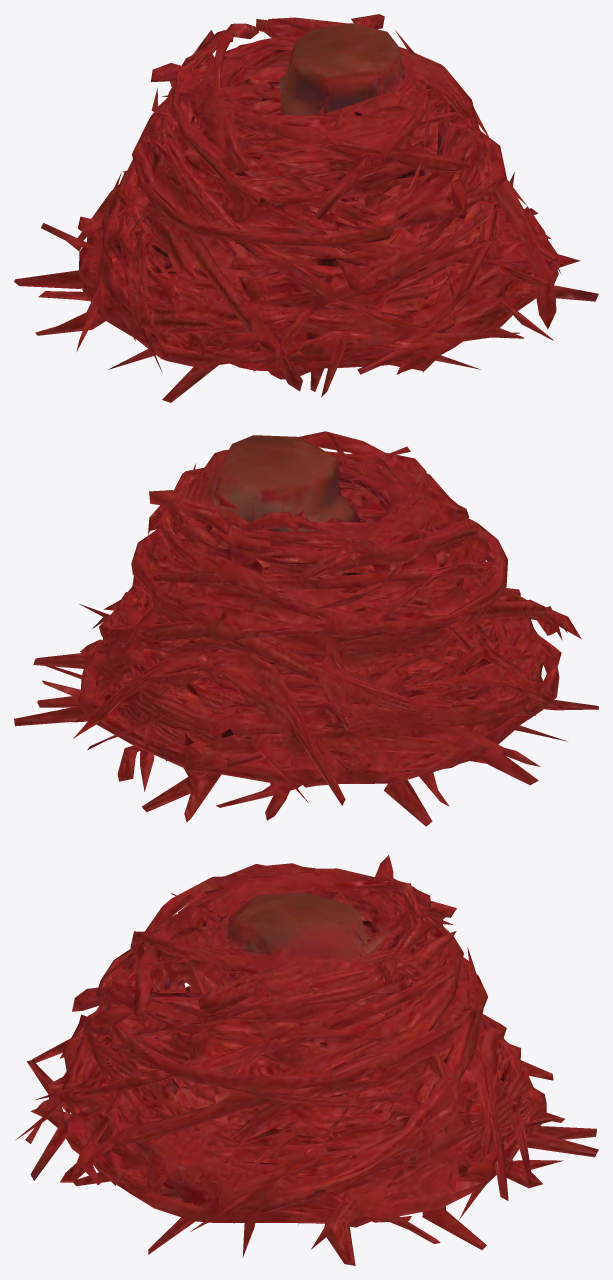
Rendered from prop-anthill.glb.
3 renders of one model, top to bottom at view 1: azimuth 30°, elevation 25°; view 2: azimuth 150°, elevation 25°; view 3: azimuth 270°, elevation 25°, orthographic. The views are drawn at different scales.
Size of the model in its own units: 1.91 by 0.9243 by 1.86.
Materials: 1 (1 with a texture image).
